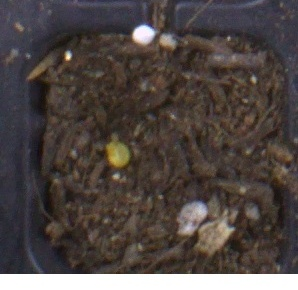chilli seed: (104, 140, 132, 168)
